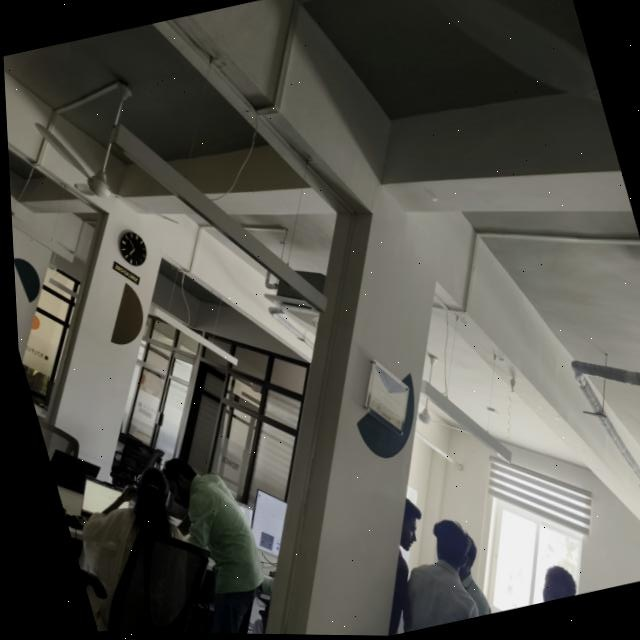fluorescent tube: (85, 75, 345, 358), (382, 357, 528, 488), (143, 283, 257, 388), (6, 139, 83, 284)
